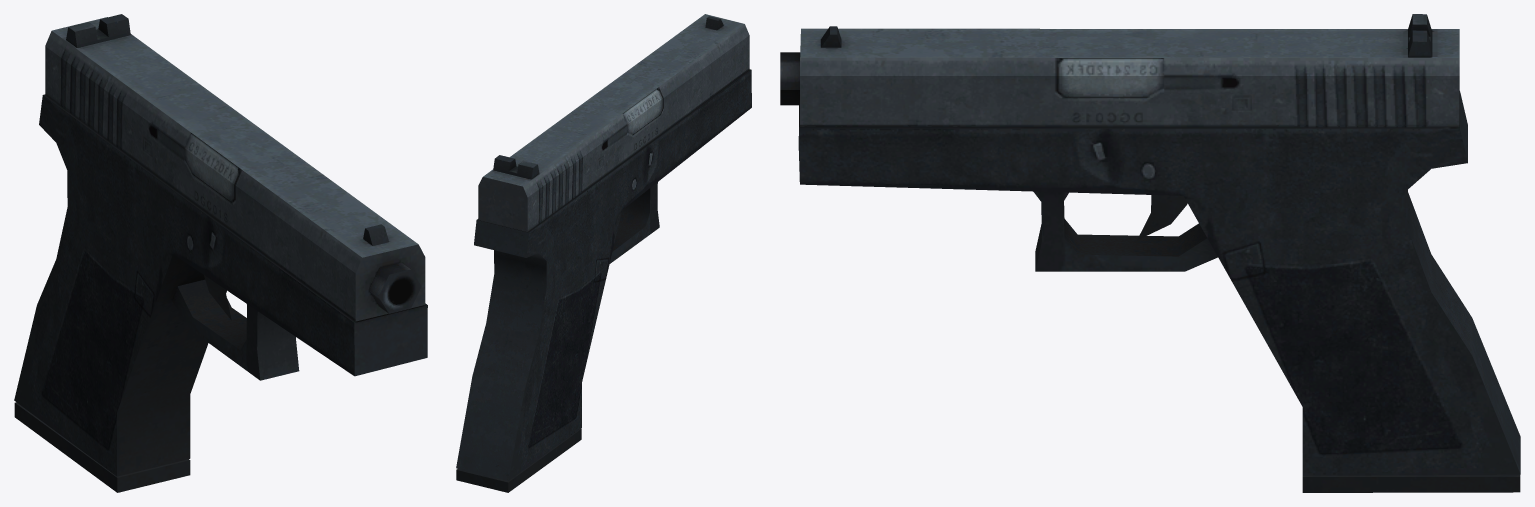
The model's file is glock18.FBX.
3 renders of one model, left to right at view 1: azimuth 30°, elevation 25°; view 2: azimuth 150°, elevation 25°; view 3: azimuth 270°, elevation 25°, orthographic. The views are drawn at different scales.
Visible parts, largest first — view 1: SMDImporter.Mesh.w_pist_glock18; view 2: SMDImporter.Mesh.w_pist_glock18; view 3: SMDImporter.Mesh.w_pist_glock18.
Boxes of the visible parts, x1,y1,x2,y2 form: SMDImporter.Mesh.w_pist_glock18: (14,14,427,492); SMDImporter.Mesh.w_pist_glock18: (456,14,751,492); SMDImporter.Mesh.w_pist_glock18: (780,14,1520,492).
Bounding box in the file's own units: 2.83 × 15.5 × 23.31.
